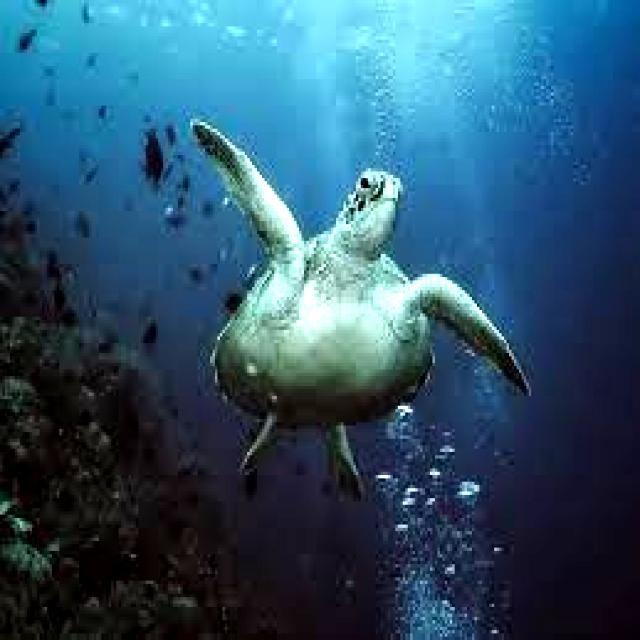Sea turtle: (186, 113, 534, 494)
